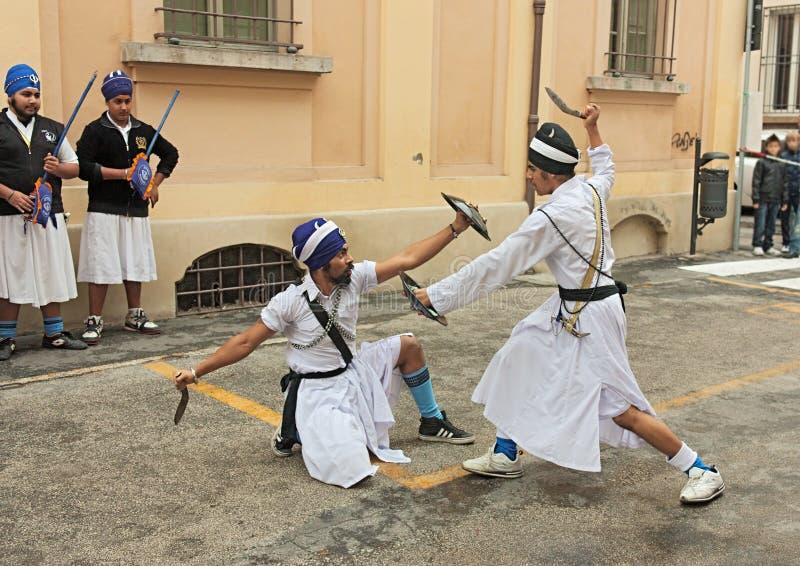facao: (545, 87, 585, 118), (175, 387, 189, 424)
